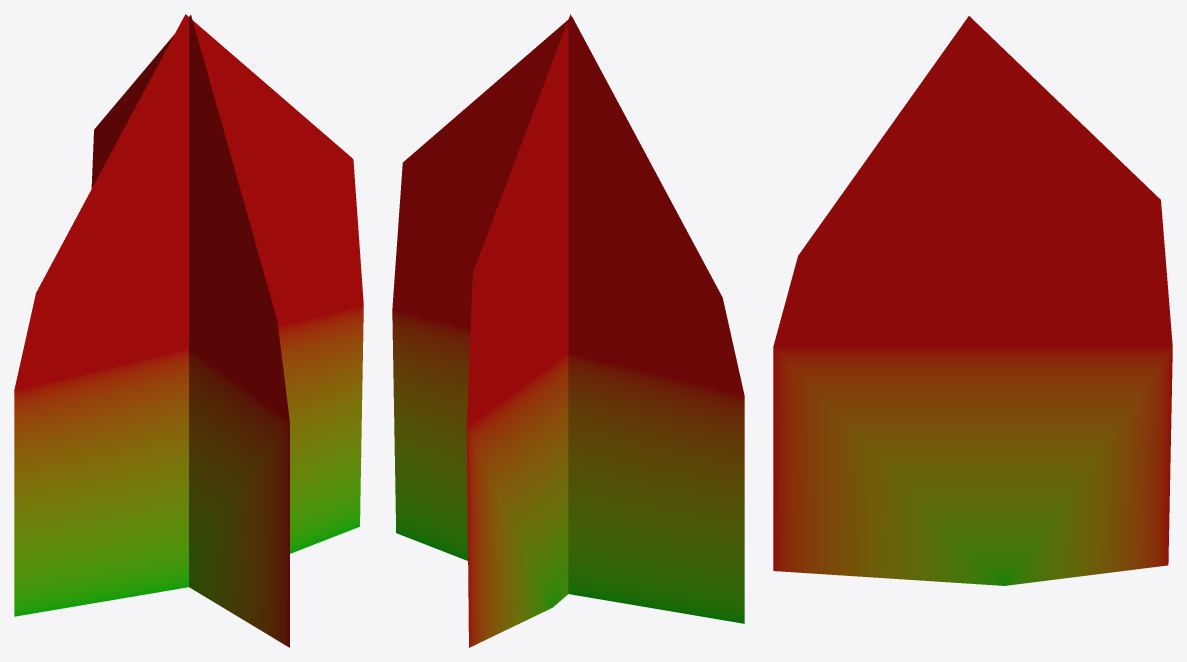
The model's file is Kikuyu Grass_LOD6_Var12_wiljearqx.fbx.
3 views of the same model, side by side, from view 1: azimuth 30°, elevation 25°; view 2: azimuth 150°, elevation 25°; view 3: azimuth 270°, elevation 25° (orthographic).
Parts seen in each view (by area): view 1: _11cw_Var12_LOD6; view 2: _11cw_Var12_LOD6; view 3: _11cw_Var12_LOD6.
Part boxes in pixels (bbox=[...]): _11cw_Var12_LOD6: bbox=[14, 14, 363, 647]; _11cw_Var12_LOD6: bbox=[392, 14, 744, 647]; _11cw_Var12_LOD6: bbox=[773, 16, 1172, 585].
Bounding box in the file's own units: 27.14 × 42.73 × 27.14.
